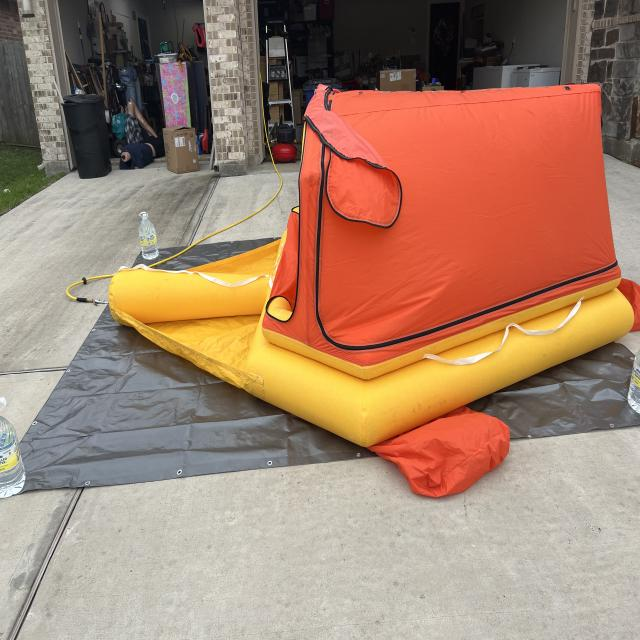Multi-person_life_raft: (110, 81, 640, 493)
